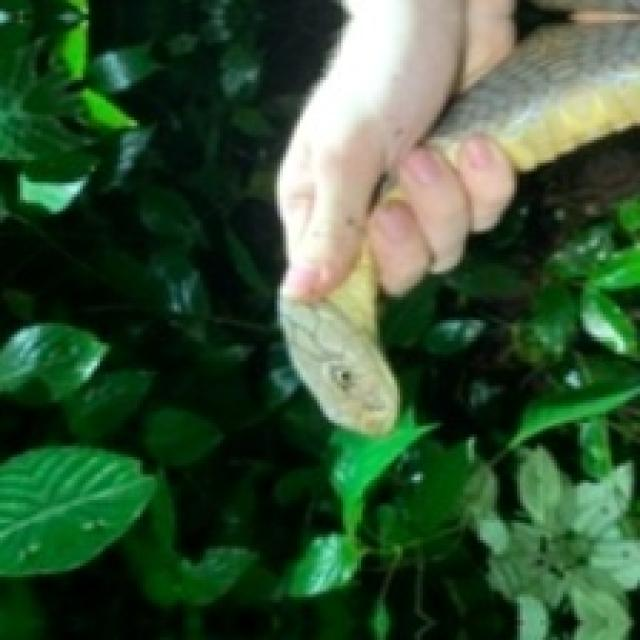king cobra: (277, 0, 637, 431)
